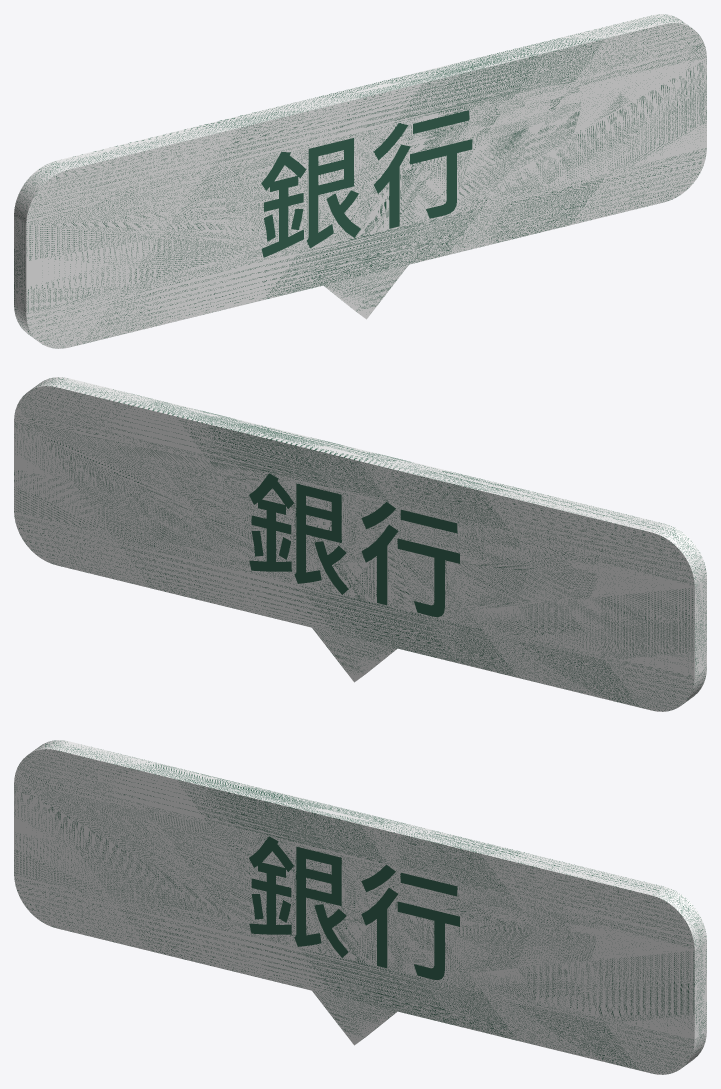
Rendered from titleMovietw.dae.
The picture shows the model from 3 angles, top to bottom: view 1: azimuth 30°, elevation 25°; view 2: azimuth 150°, elevation 25°; view 3: azimuth 330°, elevation 25°; orthographic projection.
Visible parts, largest first — view 1: 差異, instance_0 (×6); view 2: 差異, instance_1 (×6); view 3: 差異, instance_0 (×6).
Part boxes in pixels (bbox=[...]): 差異: bbox=[14, 14, 706, 348]; instance_0 (×6): bbox=[261, 110, 472, 257]; 差異: bbox=[14, 377, 706, 711]; instance_1 (×6): bbox=[249, 473, 459, 617]; 差異: bbox=[14, 740, 706, 1074]; instance_0 (×6): bbox=[249, 836, 459, 980].
Bounding box in the file's own units: 630 × 19.69 × 197.
